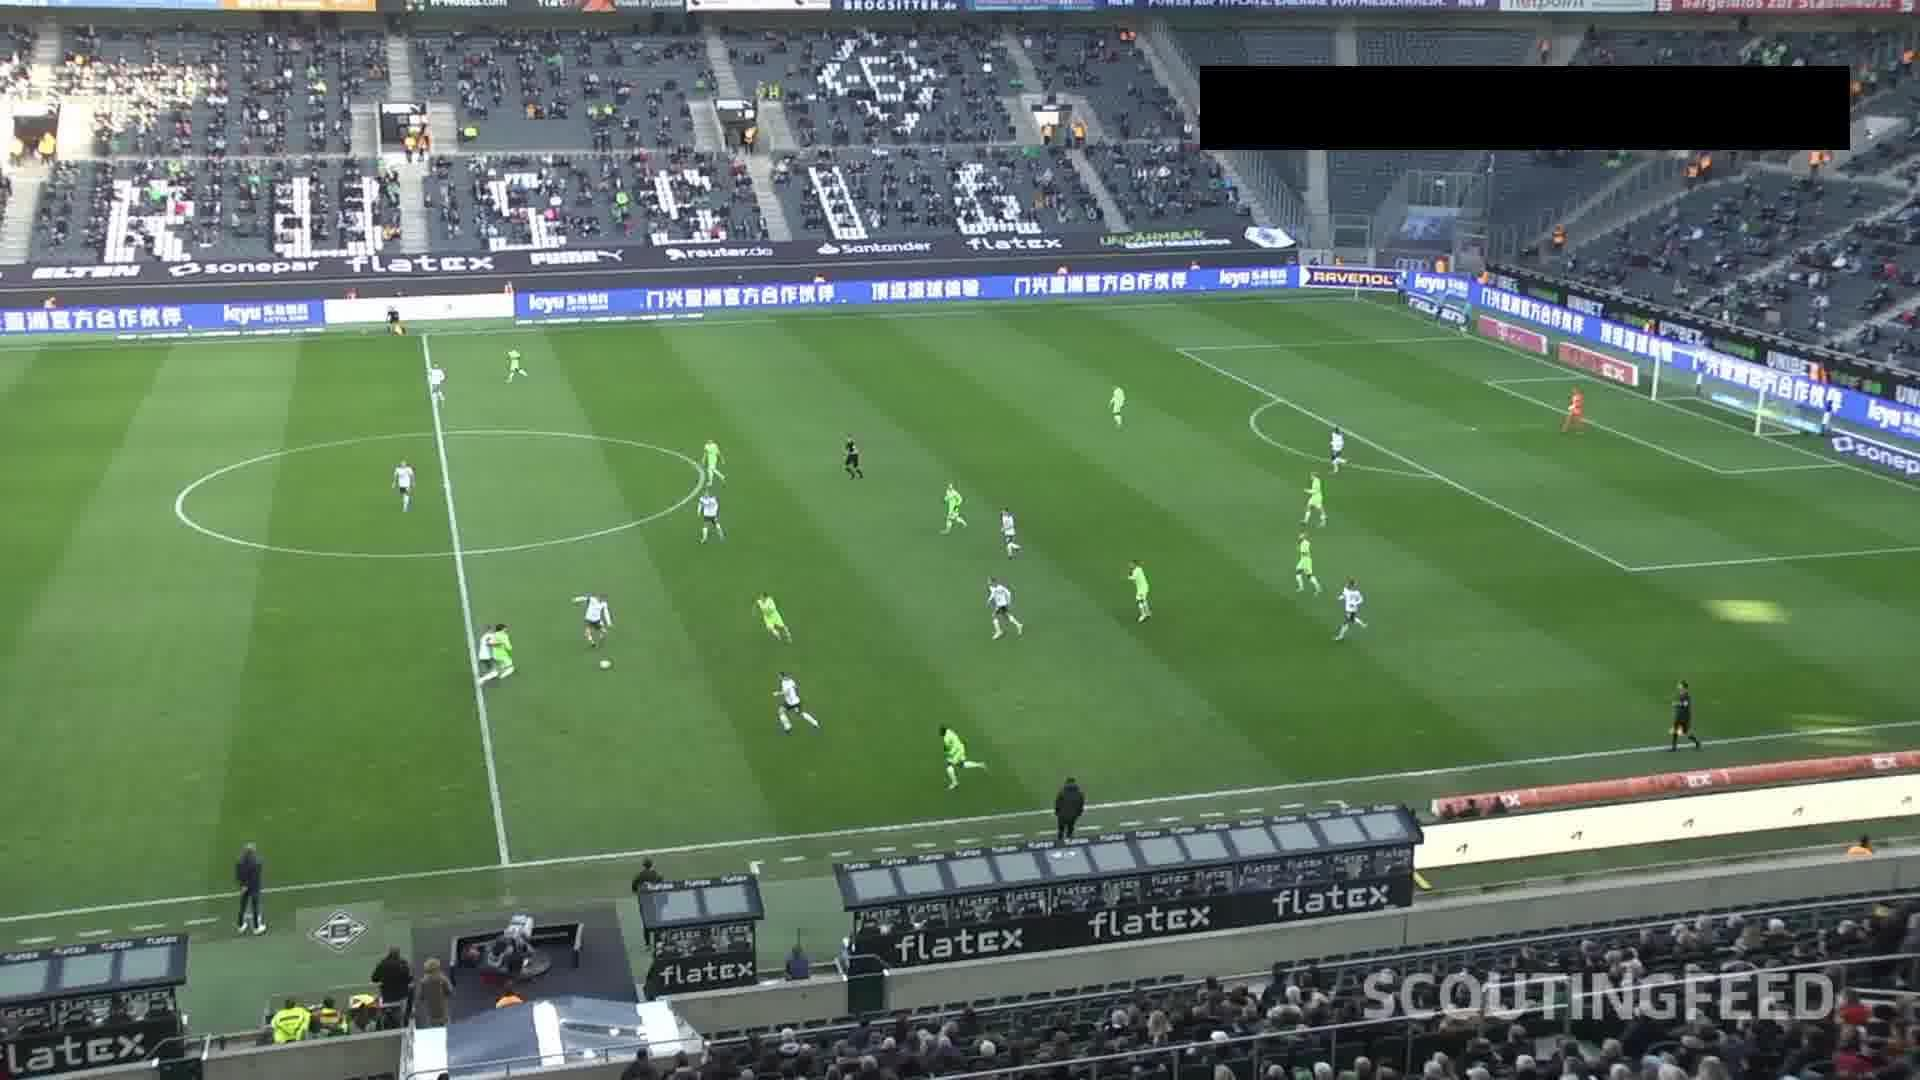football: (599, 658, 615, 673)
